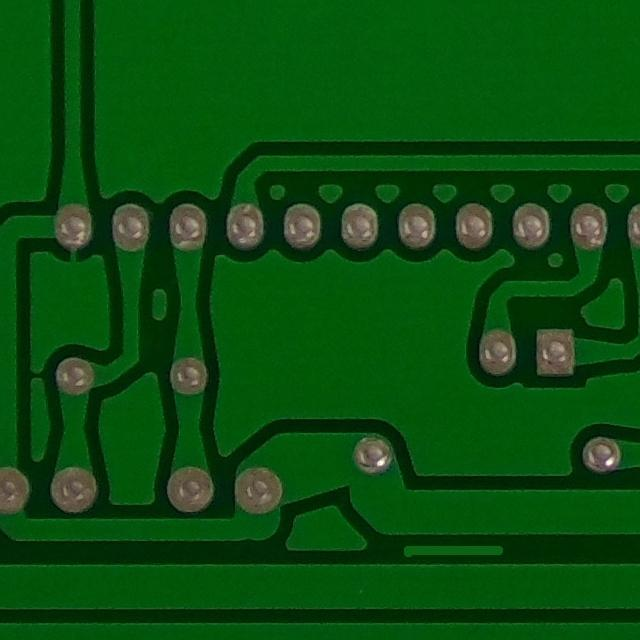spurious_copper: (385, 526, 514, 572)
